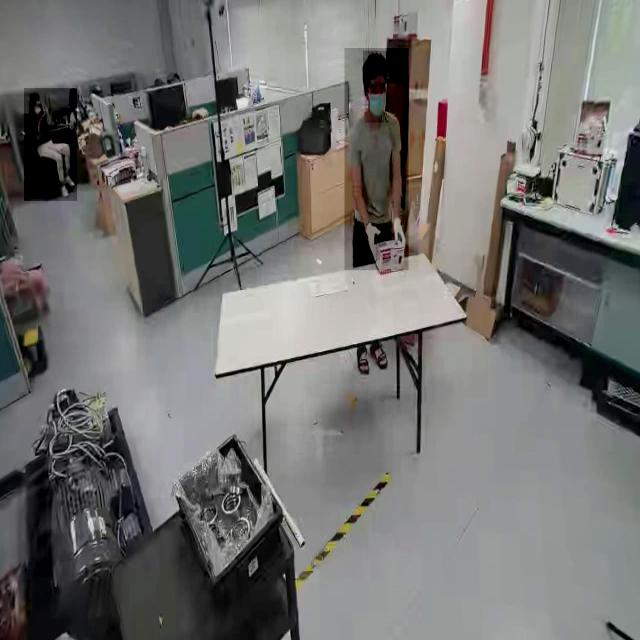face_mask: (365, 81, 389, 122), (31, 97, 43, 117)
hand_glove: (366, 224, 380, 261), (392, 214, 404, 252)
hand_noglove: (38, 111, 46, 126)
head_nohelmet: (362, 51, 388, 74), (30, 92, 40, 100)
person: (344, 48, 408, 271), (23, 88, 77, 202)
